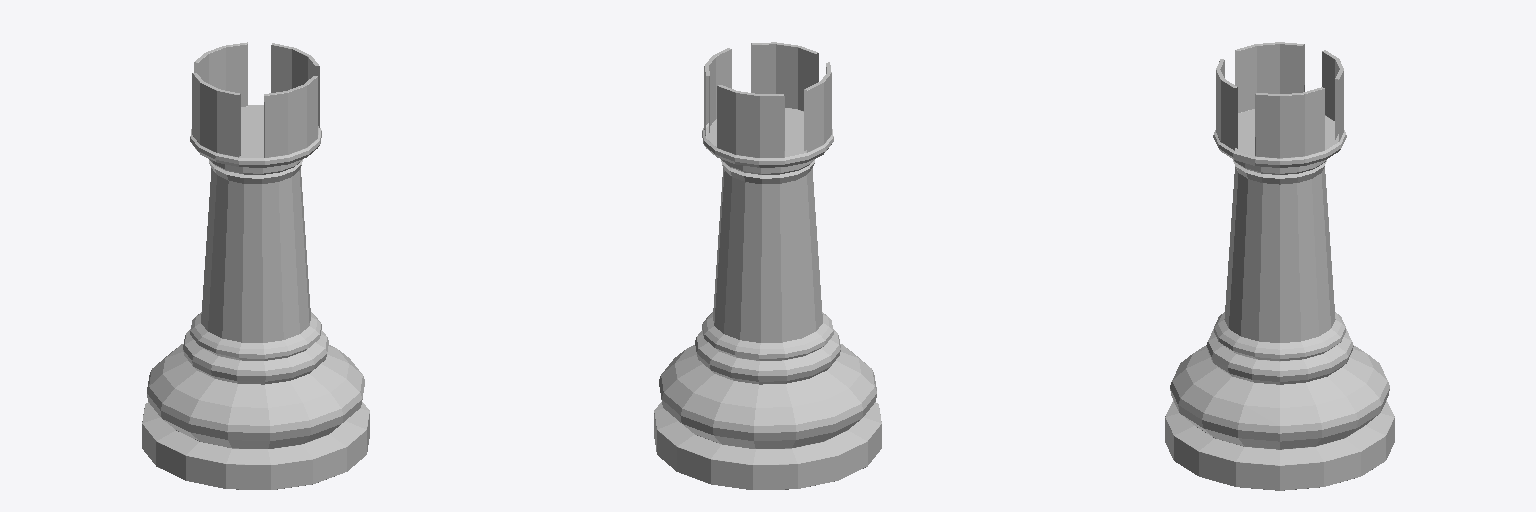
The model's file is chess_rook.obj.
3 renders of one model, left to right at view 1: azimuth 30°, elevation 25°; view 2: azimuth 150°, elevation 25°; view 3: azimuth 270°, elevation 25°, orthographic.
Visible parts, largest first — view 1: Mesh.035_elep; view 2: Mesh.035_elep; view 3: Mesh.035_elep.
Part boxes in pixels (x1,y1,x2,y2): Mesh.035_elep: (142, 42, 369, 489); Mesh.035_elep: (654, 42, 881, 489); Mesh.035_elep: (1165, 42, 1394, 490).
Size of the model in its own units: 7.19 by 12.89 by 7.19.